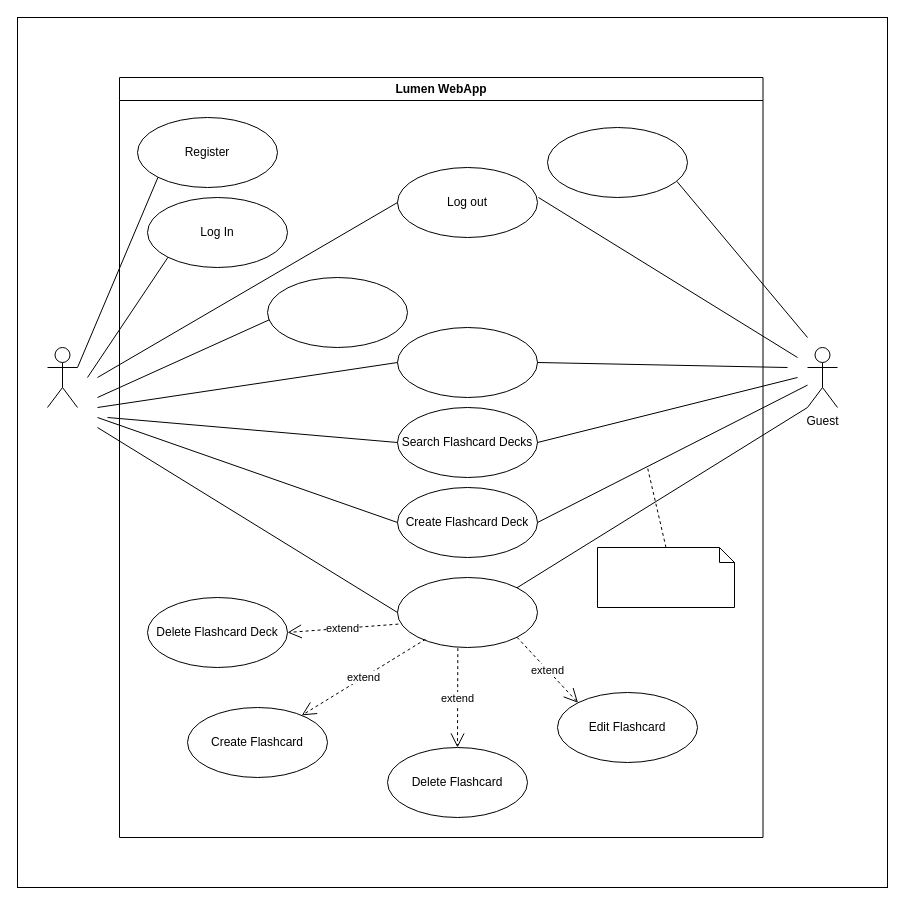
This 905x905 diagram has some shape labels left out. Here are the shapes that lost their labels. From the top down, the centre of each, then its label:
[617,162]: Guest Log In
[337,312]: Change Password
[62,377]: User
[467,362]: Learn
[665,577]: Preconditions: Has already created a deck = false
[467,612]: Edit Flashcard Deck
